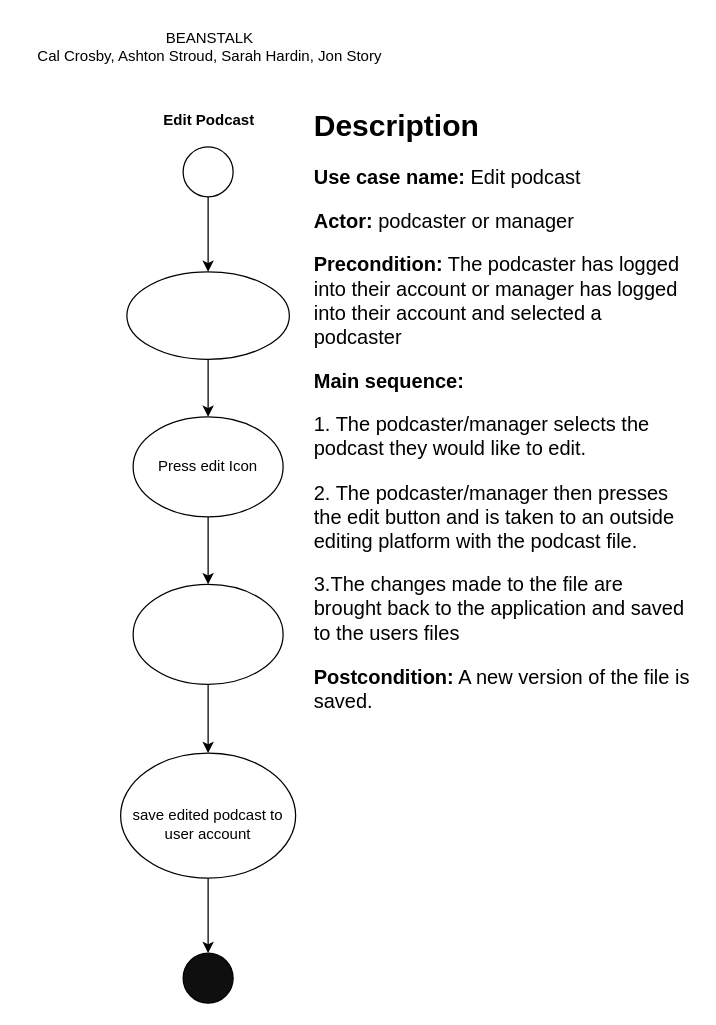
This 716x1025 diagram has some shape labels left out. Each missing label, with the centre of its shape:
"Go to outside editing software" goes at (x=207, y=633).
"Select podcast to edit" goes at (x=207, y=315).
